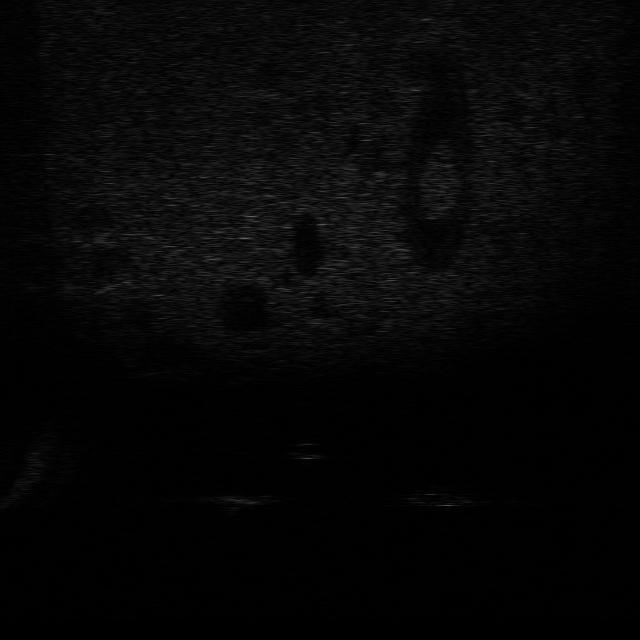ball: (282, 436, 326, 463)
square cage: (206, 488, 278, 514)
tyre: (405, 479, 475, 512)
